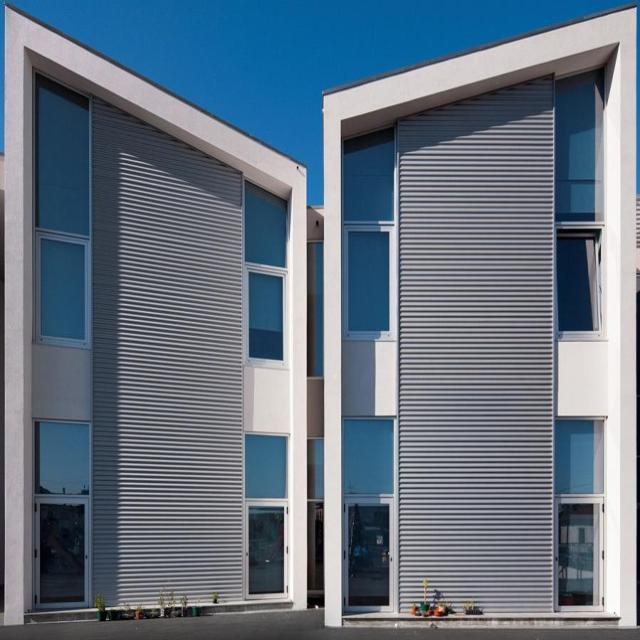door: (34, 496, 92, 608), (342, 497, 397, 615), (554, 494, 604, 615), (244, 500, 290, 603)
window: (34, 69, 92, 349), (555, 72, 609, 337), (341, 140, 397, 338), (245, 177, 289, 368), (345, 418, 395, 493), (33, 420, 87, 489), (558, 426, 603, 490), (245, 435, 288, 494), (307, 239, 322, 376), (308, 438, 324, 502)
